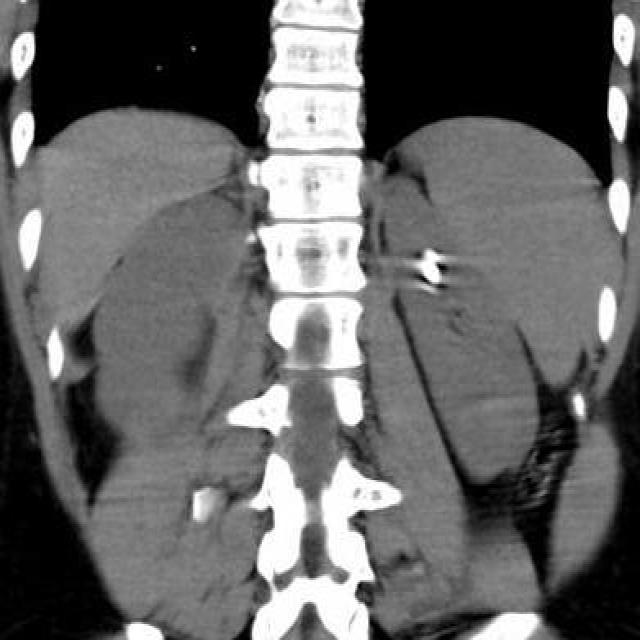Tas_Var: (417, 256, 442, 286), (422, 245, 441, 261)
